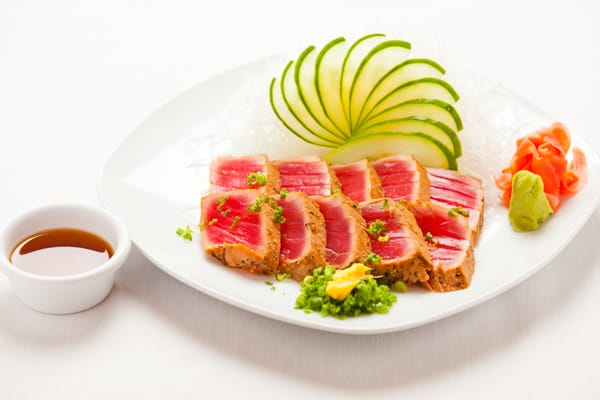curry: (293, 264, 398, 319)
